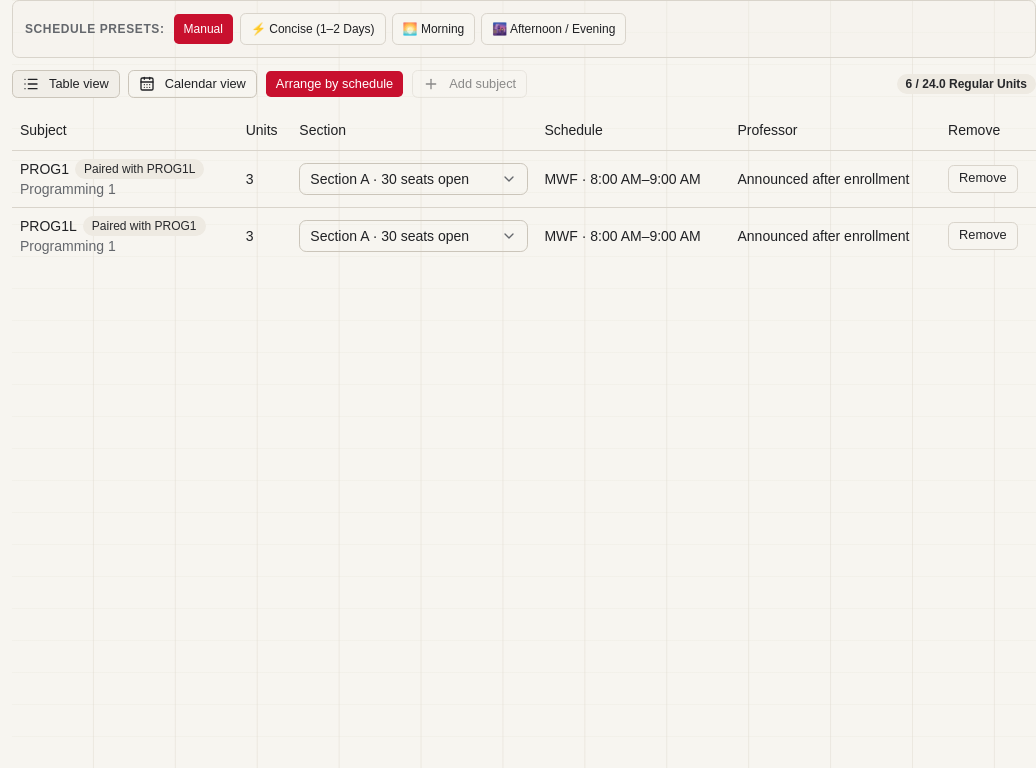
EligibleSubjectTable › removes and clears the paired subject too when one half is removed
Click the button with aria-label "Remove PROG1".
click(983, 178)  # box [948,164,1018,192]
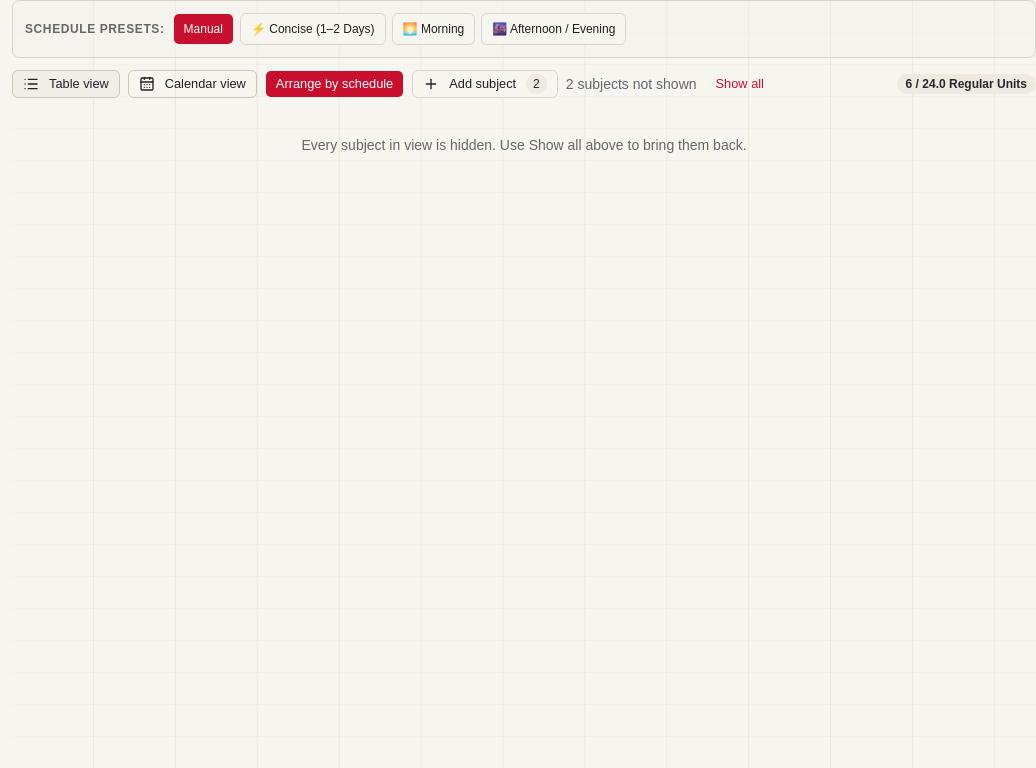
Now the text "PROG1" is gone
Now the text "PROG1L" is gone
Now the text "2 subjects not shown" is shown, box [566,74,697,94]
